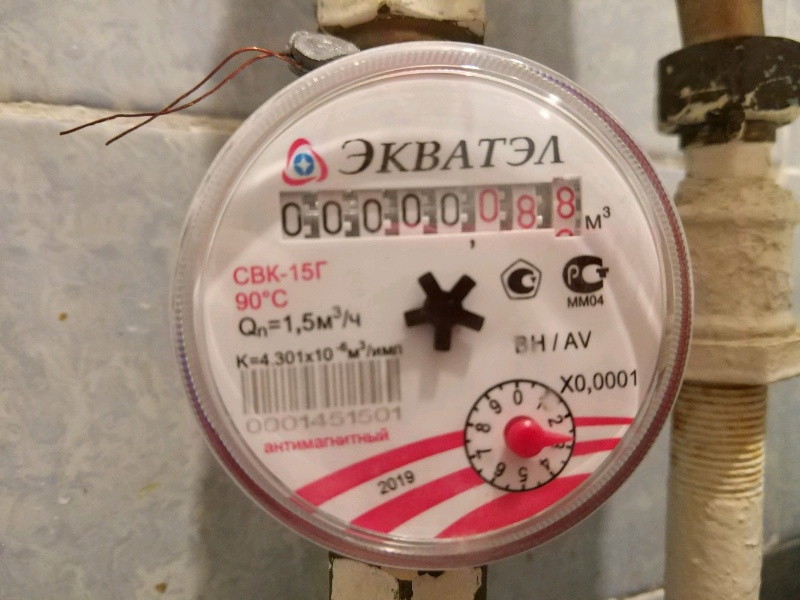meter: (257, 186, 585, 238)
